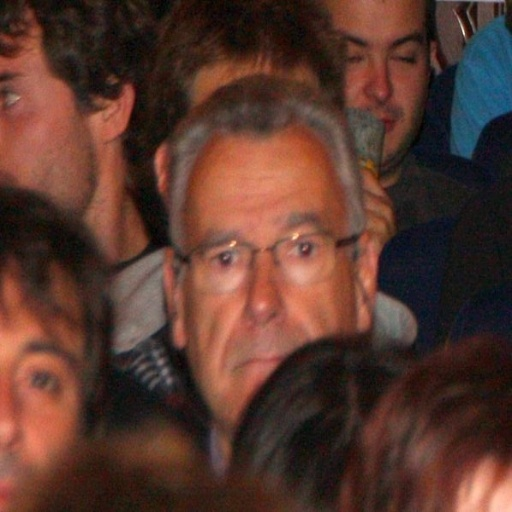hand: (363, 163, 398, 248)
